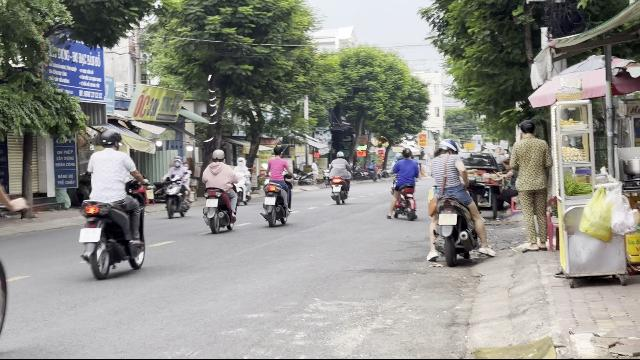helmet: (98, 128, 122, 150), (436, 138, 458, 154)
licenseplate: (79, 228, 101, 242), (438, 214, 456, 224)
motorcyclist: (76, 128, 148, 278), (424, 136, 491, 266)
